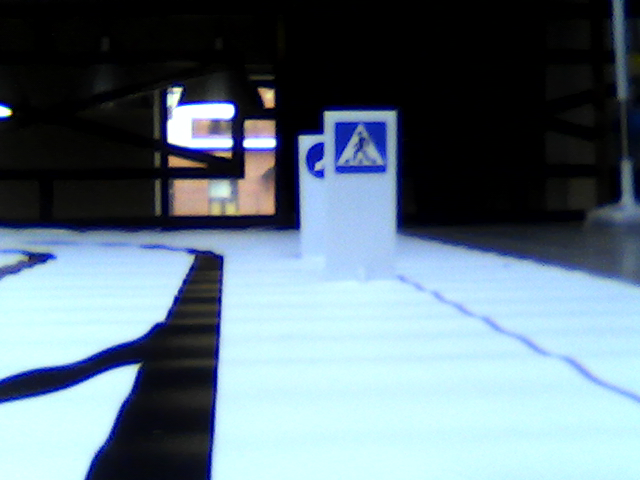pesh: (334, 122, 390, 172)
